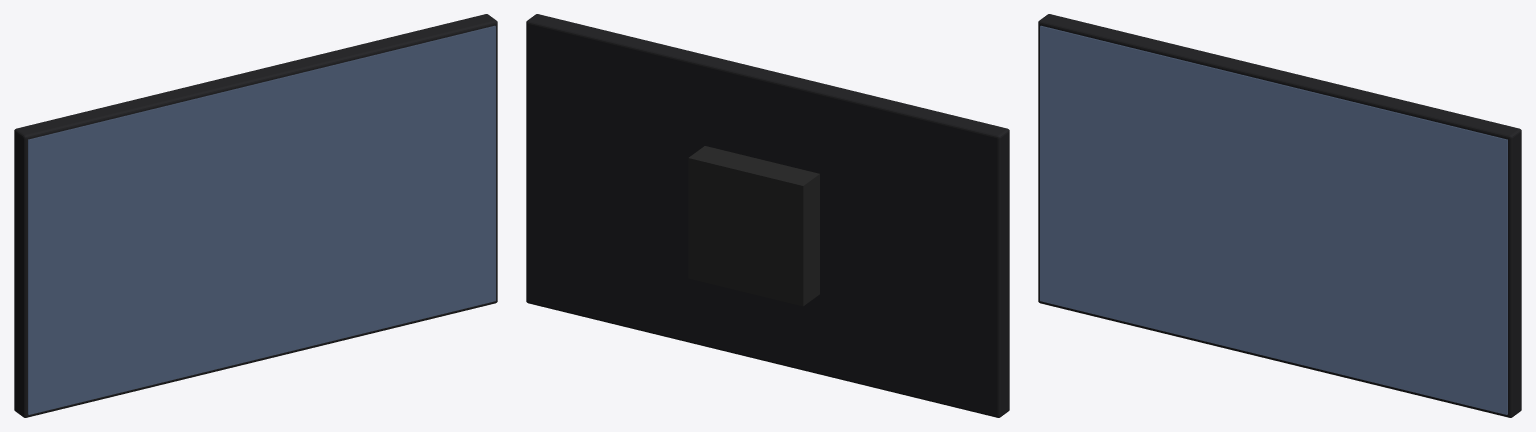
File: led-screen.glb
3 renders of one model, left to right at view 1: azimuth 30°, elevation 25°; view 2: azimuth 150°, elevation 25°; view 3: azimuth 330°, elevation 25°, orthographic.
Visible parts, largest first — view 1: TV_Izq_imagen, TV_Izq_cuerpo; view 2: TV_Izq_cuerpo, TV_Izq_soporte; view 3: TV_Izq_imagen, TV_Izq_cuerpo.
Boxes of the visible parts, x1,y1,x2,y2 form: TV_Izq_imagen: [28, 25, 495, 414]; TV_Izq_cuerpo: [14, 14, 497, 417]; TV_Izq_cuerpo: [526, 14, 1009, 417]; TV_Izq_soporte: [688, 146, 819, 306]; TV_Izq_imagen: [1040, 25, 1507, 414]; TV_Izq_cuerpo: [1038, 14, 1521, 417].
Size of the model in its own units: 1.24 by 0.7049 by 0.129.
